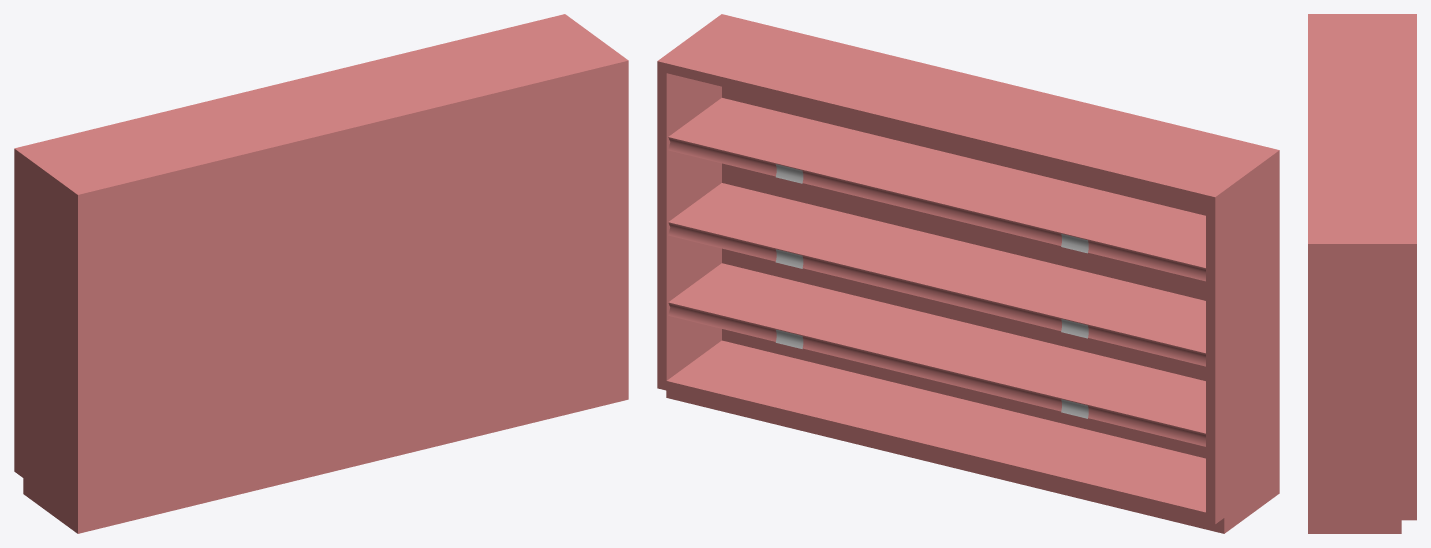
Rendered from Shelf1.fbx.
3 renders of one model, left to right at view 1: azimuth 30°, elevation 25°; view 2: azimuth 150°, elevation 25°; view 3: azimuth 270°, elevation 25°, orthographic. The views are drawn at different scales.
Visible parts, largest first — view 1: Shelf1; view 2: Shelf1; view 3: Shelf1.
Part boxes in pixels (x1,y1,x2,y2): Shelf1: [14, 14, 628, 533]; Shelf1: [657, 14, 1279, 533]; Shelf1: [1308, 14, 1416, 533].
Bounding box in the file's own units: 5 × 2.94 × 1.
